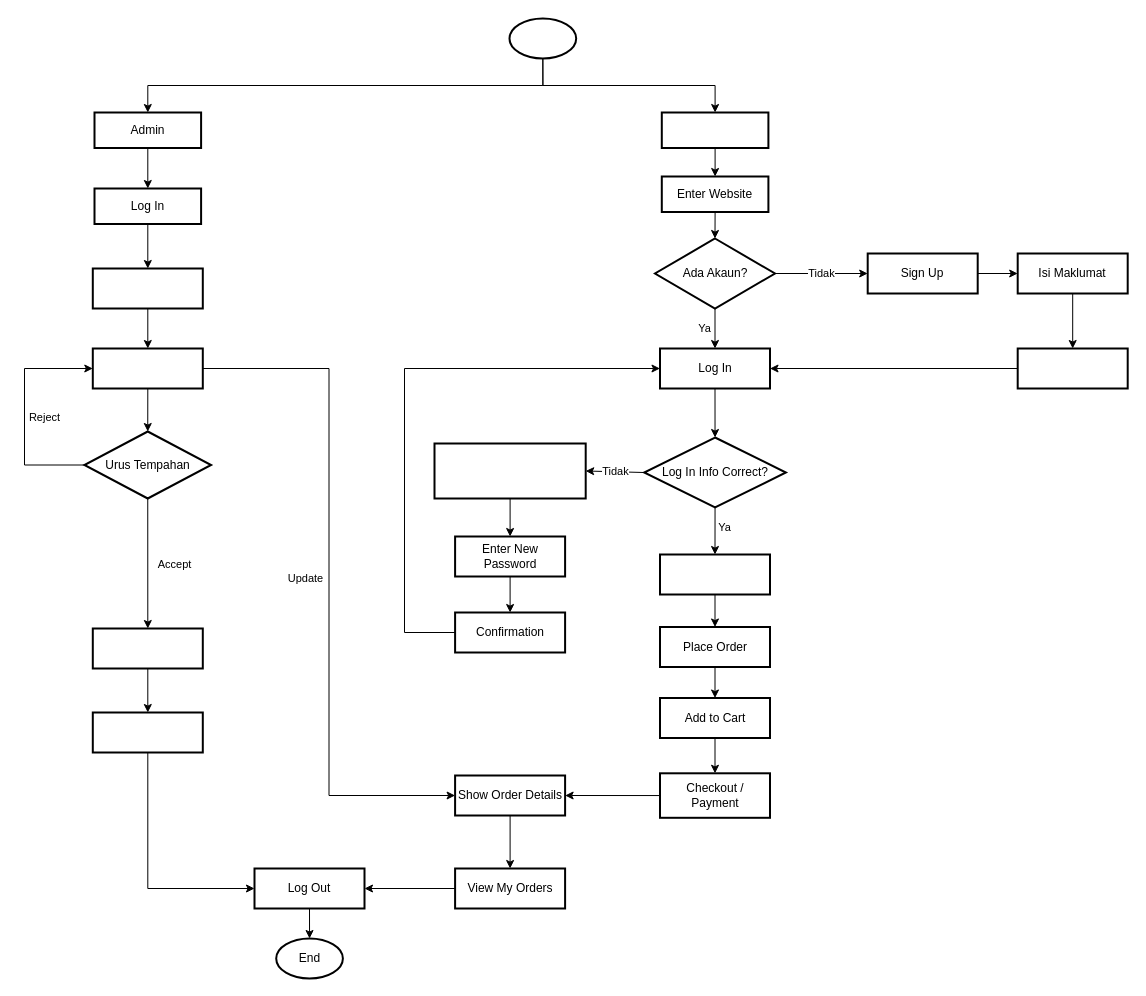
Some shapes in this 1146 by 996 pixel diagram are drawn without their labels. Each missing label, with the centre of its shape:
"Complete Order" belongs at (147,648).
"Kemaskini Produk" belongs at (147,288).
"Kemaskini Tempahan" belongs at (147,368).
"Mula" belongs at (542,38).
"Password Reset : User masukkan email address" belongs at (509,470).
"Print Order" belongs at (147,732).
"Submit" belongs at (1072,368).
"User" belongs at (714,129).
"View Menu" belongs at (714,574).
